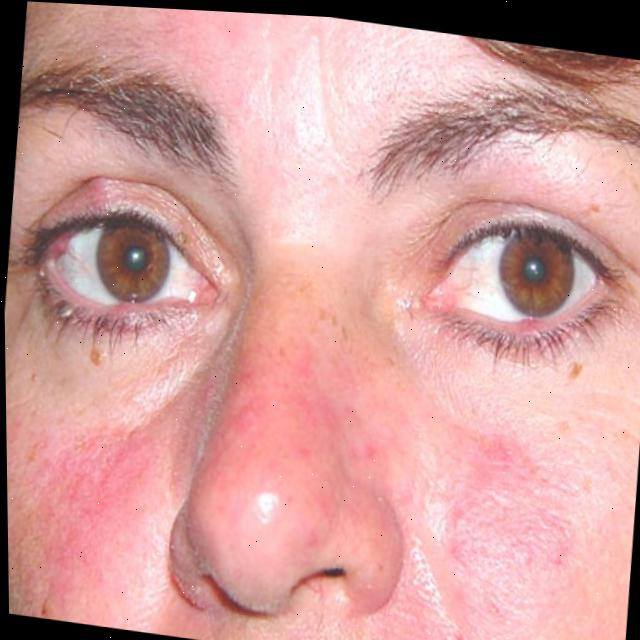Rosacea: (228, 307, 382, 484), (458, 397, 580, 599), (41, 429, 192, 580)
